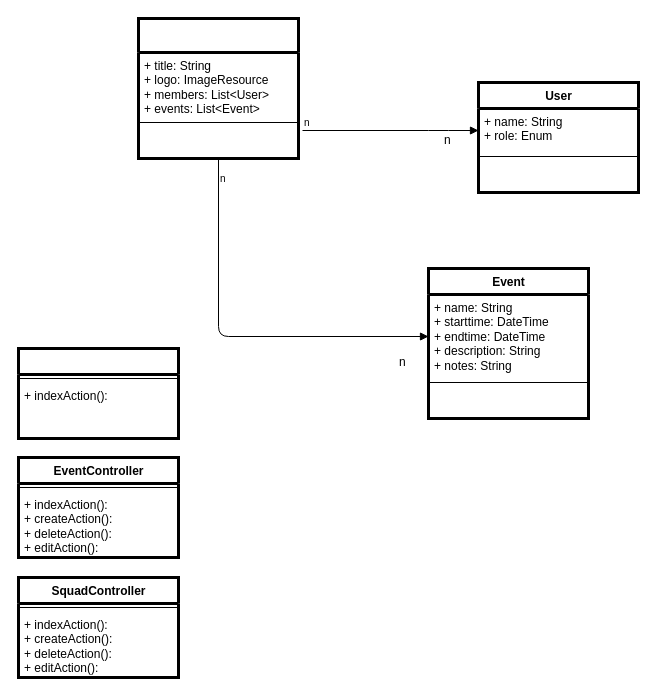
Some shapes in this 657 by 698 pixel diagram are drawn without their labels. The box of each missing label's shape, as (x1, y1, x2, y2) in pixels:
Squad: (136, 16, 300, 160)
StandardController: (16, 346, 180, 440)
